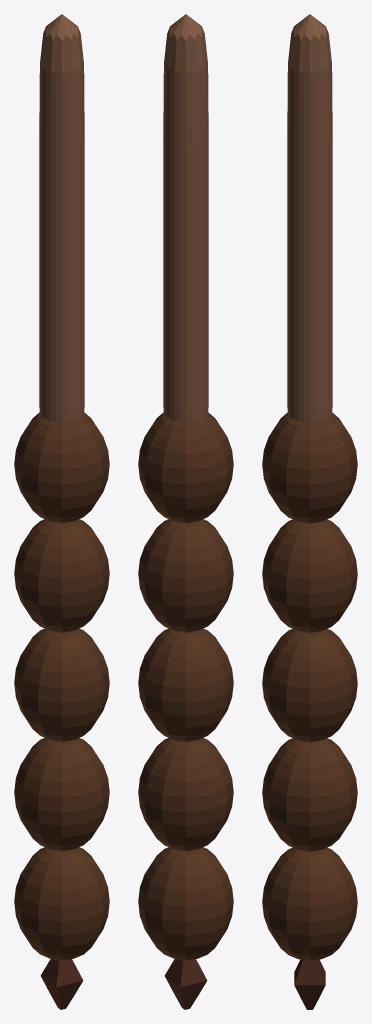
The model's file is Wand 215.glb.
3 renders of one model, left to right at view 1: azimuth 30°, elevation 25°; view 2: azimuth 210°, elevation 25°; view 3: azimuth 270°, elevation 25°, orthographic.
Visible parts, largest first — view 1: GeneratedWand; view 2: GeneratedWand; view 3: GeneratedWand.
Boxes of the visible parts, x1,y1,x2,y2 form: GeneratedWand: [14, 14, 109, 1009]; GeneratedWand: [138, 14, 233, 1009]; GeneratedWand: [262, 14, 357, 1009].
Size of the model in its own units: 0.0447 by 0.5156 by 0.0449.
